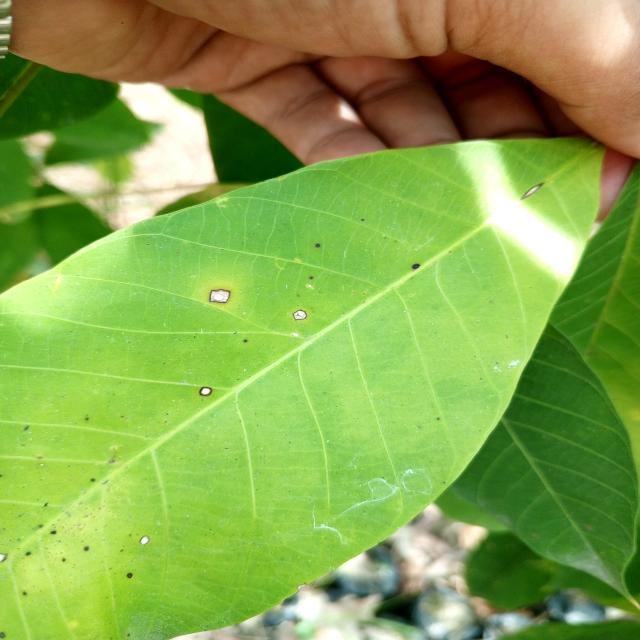Colletotrichum: (210, 289, 230, 303), (293, 310, 307, 320), (199, 387, 212, 396), (140, 536, 150, 544), (412, 264, 419, 269), (128, 573, 132, 578), (316, 243, 320, 248)
